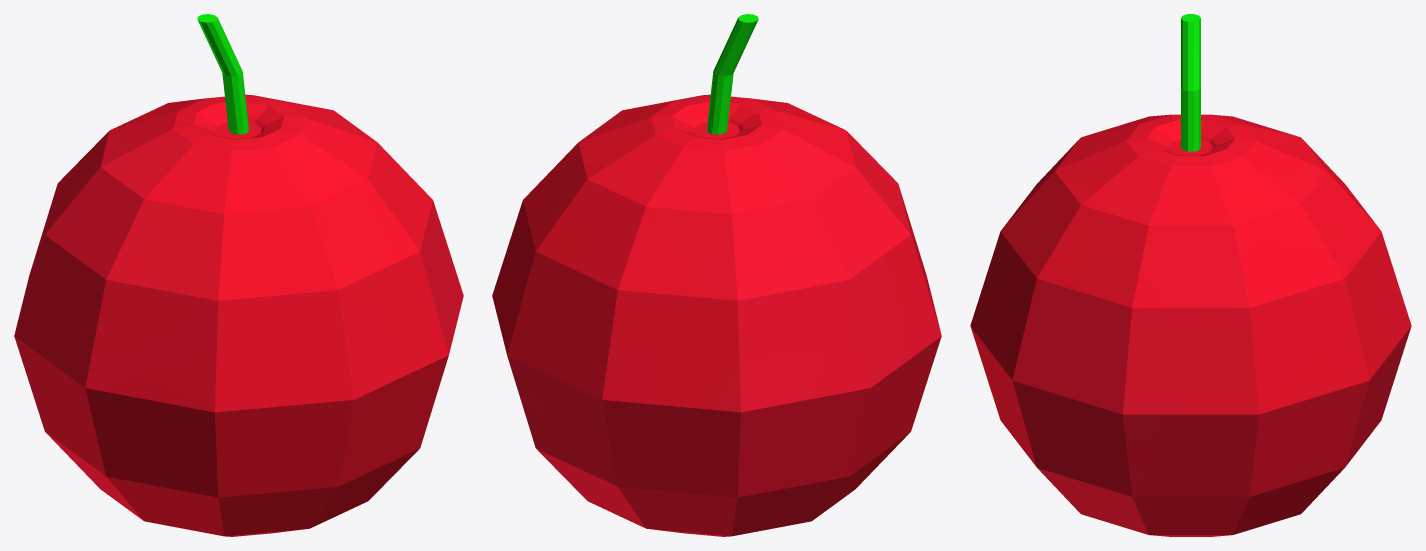
The model's file is Apple.fbx.
3 views of the same model, side by side, from view 1: azimuth 30°, elevation 25°; view 2: azimuth 150°, elevation 25°; view 3: azimuth 270°, elevation 25° (orthographic). The views are drawn at different scales.
Visible parts, largest first — view 1: Apple; view 2: Apple; view 3: Apple.
Boxes of the visible parts, x1,y1,x2,y2 form: Apple: (14,14,463,536); Apple: (492,14,941,536); Apple: (970,14,1411,536).
Size of the model in its own units: 5.06 by 6.4 by 5.32.
